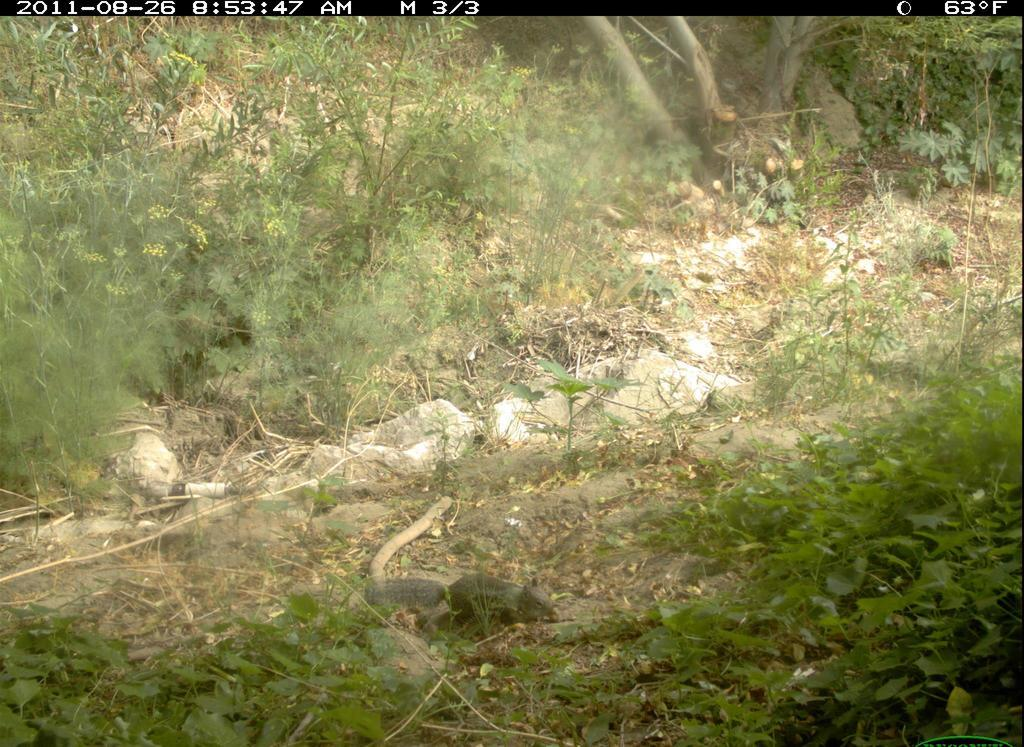squirrel: (355, 564, 565, 637)
